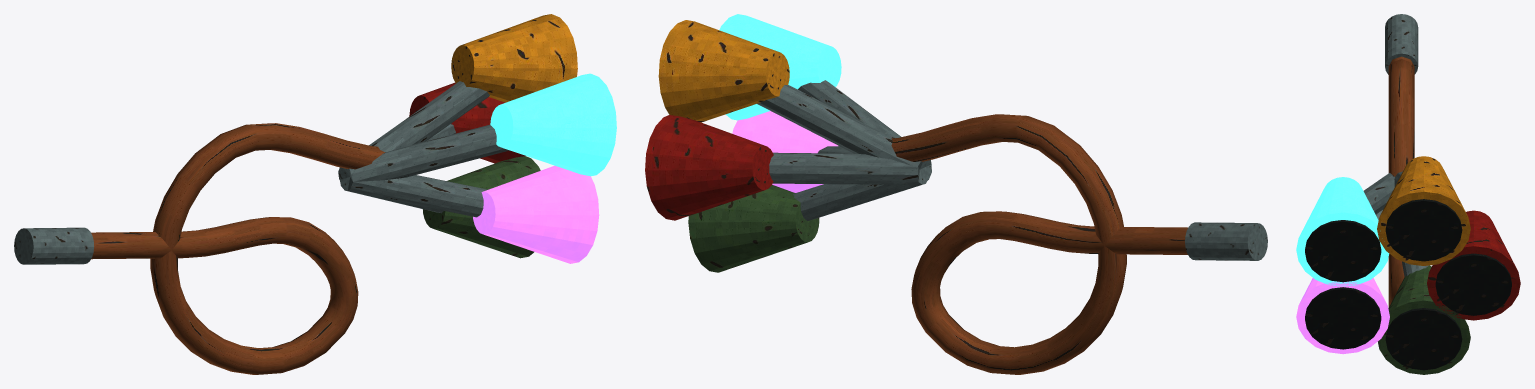
File: eq-crewbugle.glb
The picture shows the model from 3 angles, left to right: view 1: azimuth 30°, elevation 25°; view 2: azimuth 150°, elevation 25°; view 3: azimuth 270°, elevation 25°; orthographic projection. The views are drawn at different scales.
Visible parts, largest first — view 1: Bent brass tube.001, Colored bell.002, Colored bell.003, Colored bell.001, Branched neck.002, Branched neck.003, Colored bell.004, Branched neck.001, Mouth.001, Colored bell; view 2: Bent brass tube.001, Colored bell, Colored bell.001, Colored bell.004, Branched neck, Colored bell.002, Branched neck.001, Mouth.001, Colored bell.003, Branched neck.004, Branched neck.002; view 3: Bell cavity, Bell cavity.003, Bell cavity.001, Bell cavity.002, Bell cavity.004, Colored bell.001, Bent brass tube.001, Colored bell.002, Colored bell, Colored bell.004, Colored bell.003, Mouth.001 (+2 smaller).
Boxes of the visible parts, x1,y1,x2,y2 form: Bent brass tube.001: (91,123,385,374); Colored bell.002: (490,73,616,176); Colored bell.003: (473,165,599,263); Colored bell.001: (451,14,577,102); Branched neck.002: (349,124,509,181); Branched neck.003: (347,175,487,217); Colored bell.004: (423,156,540,258); Branched neck.001: (344,81,489,175); Mouth.001: (14,227,94,264); Colored bell: (409,82,525,163); Bent brass tube.001: (891,114,1187,374); Colored bell: (645,115,773,220); Colored bell.001: (658,20,789,122); Colored bell.004: (688,184,819,272); Branched neck: (769,152,919,184); Colored bell.002: (719,14,841,120); Branched neck.001: (757,85,922,169); Mouth.001: (1185,222,1267,260); Colored bell.003: (732,111,838,192); Branched neck.004: (793,170,926,220); Branched neck.002: (798,80,931,169); Bell cavity: (1435,253,1511,315); Bell cavity.003: (1305,287,1381,349); Bell cavity.001: (1385,199,1462,261); Bell cavity.002: (1305,220,1381,282); Bell cavity.004: (1385,308,1462,370); Colored bell.001: (1377,156,1470,265); Bent brass tube.001: (1388,56,1414,307); Colored bell.002: (1296,177,1389,286); Colored bell: (1427,210,1520,320); Colored bell.004: (1378,265,1470,374); Colored bell.003: (1296,278,1389,354); Mouth.001: (1385,14,1418,74).
Size of the model in its own units: 0.8025 by 0.3805 by 0.3109.
8 materials, 8 textured.
